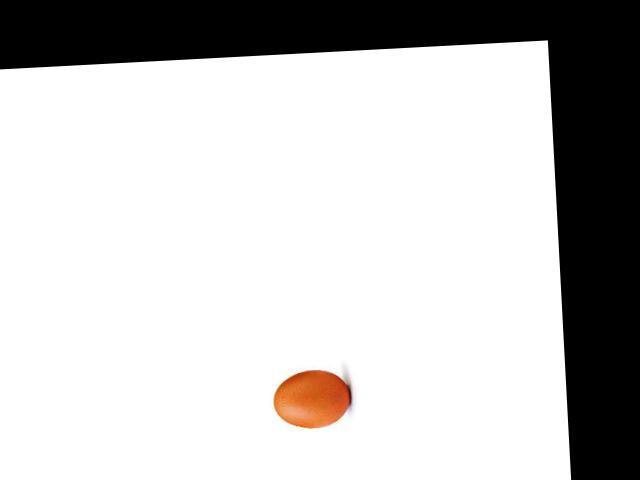egg: (273, 368, 351, 429)
